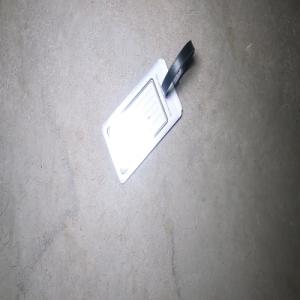LuggageTag: (100, 38, 195, 185)
